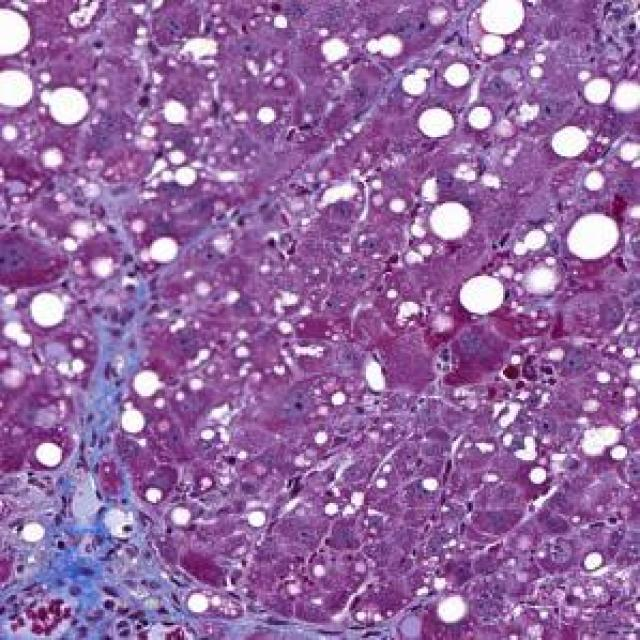fibrosis: (49, 314, 176, 636)
